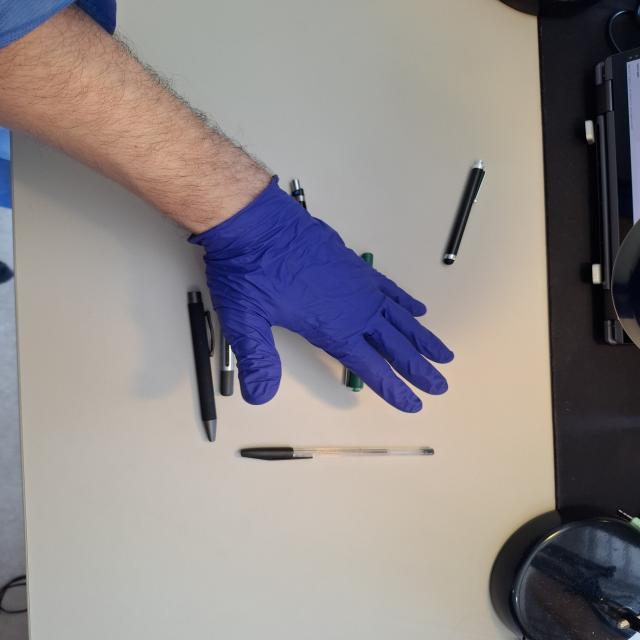glove_on: (184, 173, 458, 417)
